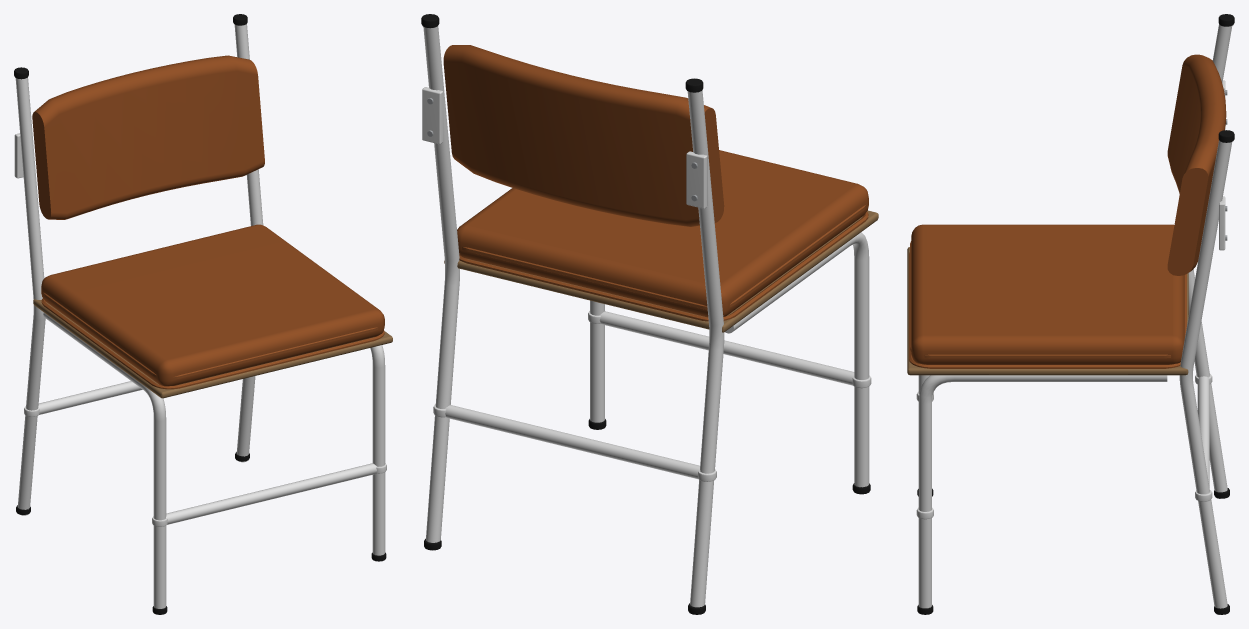
File: hosp_chaise.glb
3 views of the same model, side by side, from view 1: azimuth 30°, elevation 25°; view 2: azimuth 150°, elevation 25°; view 3: azimuth 270°, elevation 25° (orthographic). The views are drawn at different scales.
Parts seen in each view (by area): view 1: assise, dossier, armature; view 2: assise, dossier, armature; view 3: assise, armature, dossier.
Part boxes in pixels (box(x1,y1,x2,y2)): assise: box(33, 224, 392, 398); dossier: box(14, 55, 264, 219); armature: box(14, 14, 386, 614); assise: box(444, 150, 878, 332); dossier: box(422, 45, 724, 226); armature: box(421, 14, 871, 614); assise: box(907, 224, 1188, 375); armature: box(916, 14, 1234, 614); dossier: box(1167, 54, 1227, 275).
Size of the model in its own units: 0.456 by 0.8209 by 0.5075.
